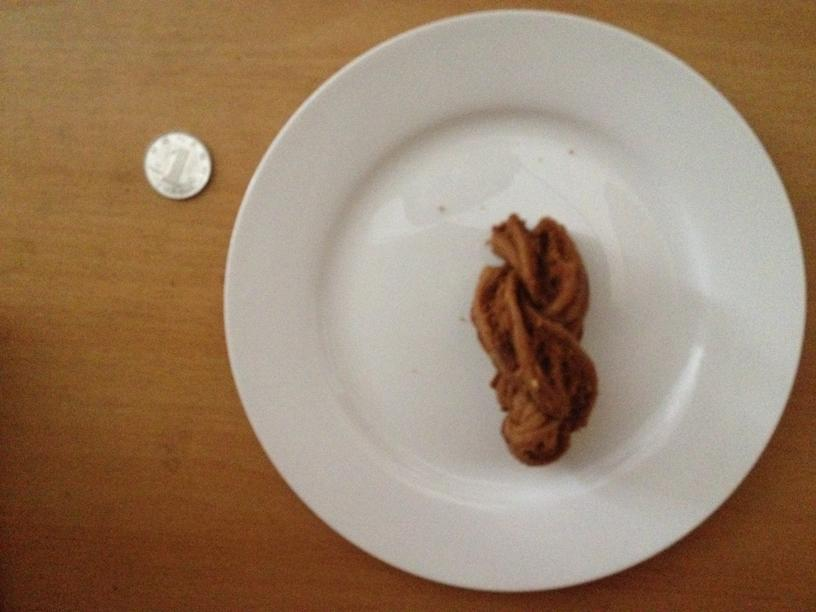coin: (144, 129, 213, 202)
fired_dough_twist: (470, 211, 597, 466)
